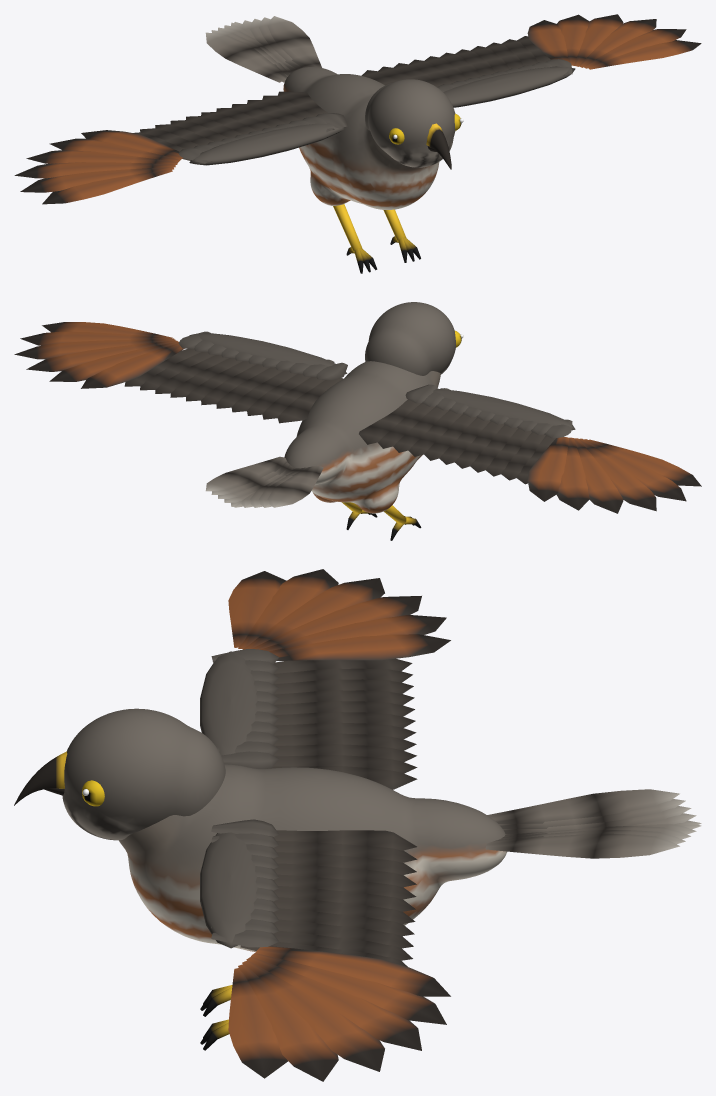
The model's file is gaviao.glb.
3 renders of one model, top to bottom at view 1: azimuth 30°, elevation 25°; view 2: azimuth 150°, elevation 25°; view 3: azimuth 270°, elevation 25°, orthographic. The views are drawn at different scales.
Visible parts, largest first — view 1: corpo, asa_E_braco, asa_E_mao, asa_D_braco, asa_D_mao, cabeca_malha, cauda_penas, garras, bico; view 2: corpo, asa_E_braco, asa_D_braco, asa_E_mao, asa_D_mao, cabeca_malha, cauda_penas, garras; view 3: corpo, asa_D_braco, asa_E_braco, asa_D_mao, cabeca_malha, asa_E_mao, cauda_penas, bico, garras.
Boxes of the visible parts, box(x1,y1,x2,y2) form: corpo: box(283, 67, 439, 209); asa_E_braco: box(133, 91, 347, 165); asa_E_mao: box(14, 130, 182, 204); asa_D_braco: box(361, 36, 575, 107); asa_D_mao: box(527, 14, 701, 69); cabeca_malha: box(365, 79, 455, 167); cauda_penas: box(205, 16, 321, 82); garras: box(333, 204, 420, 273); bico: box(426, 123, 451, 169); corpo: box(284, 361, 440, 513); asa_E_braco: box(359, 384, 575, 484); asa_D_braco: box(124, 331, 347, 423); asa_E_mao: box(527, 437, 701, 513); asa_D_mao: box(14, 322, 184, 388); cabeca_malha: box(365, 302, 455, 375); cauda_penas: box(205, 456, 323, 507); garras: box(342, 502, 421, 540); corpo: box(119, 764, 506, 951); asa_D_braco: box(200, 819, 417, 966); asa_E_braco: box(200, 649, 417, 789); asa_D_mao: box(228, 946, 450, 1081); cabeca_malha: box(62, 708, 225, 840); asa_E_mao: box(228, 569, 450, 660); cauda_penas: box(485, 789, 701, 858); bico: box(14, 751, 67, 805); garras: box(200, 985, 232, 1050).
Size of the model in its own units: 1.52 by 0.4319 by 0.8612.
